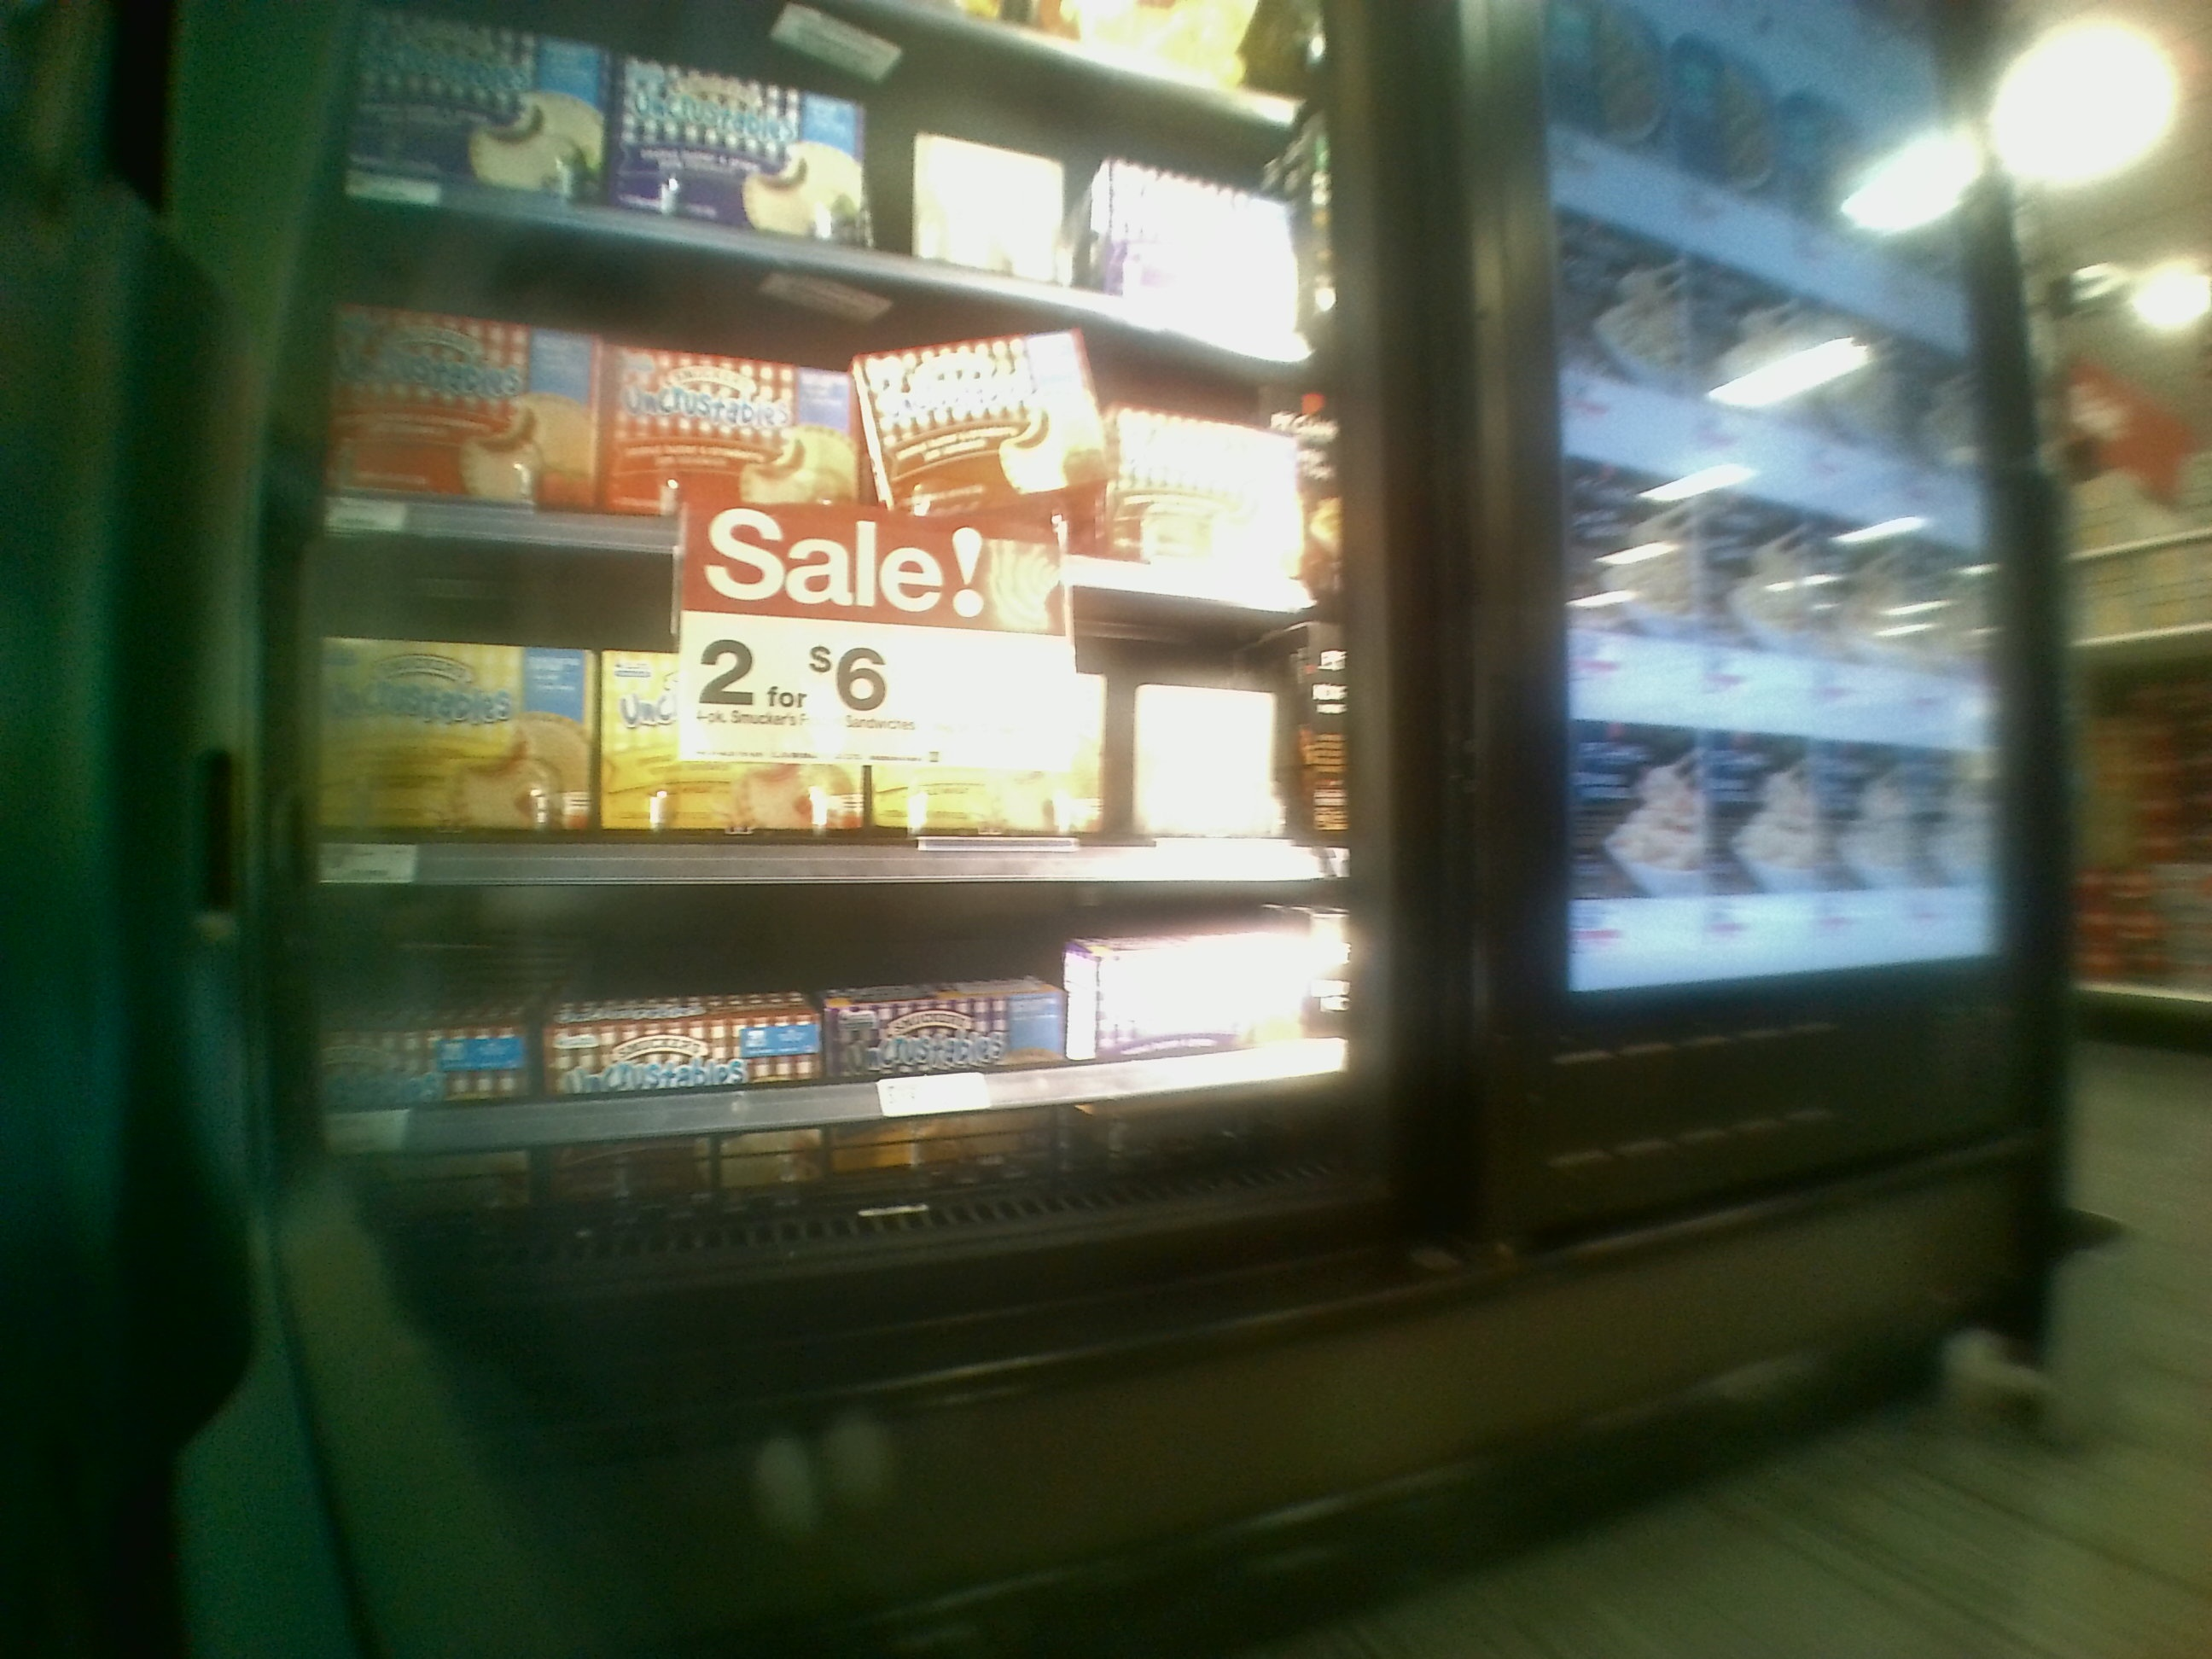shelf: (314, 897, 1383, 1243), (312, 551, 1331, 889)
